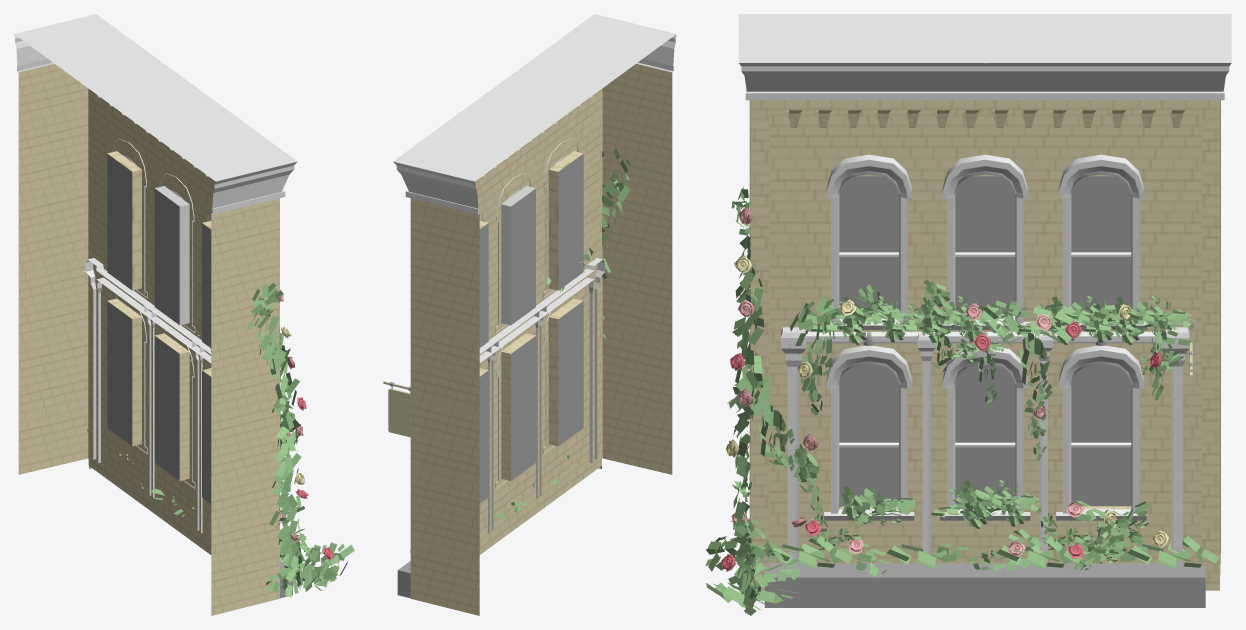
File: Back_House_B.fbx
3 views of the same model, side by side, from view 1: azimuth 30°, elevation 25°; view 2: azimuth 150°, elevation 25°; view 3: azimuth 270°, elevation 25° (orthographic). The views are drawn at different scales.
Parts seen in each view (by area): view 1: polySurface13, polySurface12, polySurface91, pCube87, pCube89, pCube88, pCube86, polySurface192; view 2: polySurface12, polySurface13, pCube86, pCube84, polySurface91, pCube89, pCube88, pCube87, dodai_B; view 3: polySurface13, polySurface12, dodai_B, polySurface91, polySurface16, polySurface18, polySurface11, polySurface14, polySurface17, polySurface15, pCube86, pCube87 (+15 smaller).
Part boxes in pixels (x1=…): polySurface13: x1=14, y1=14, x2=196, y2=529; polySurface12: x1=115, y1=88, x2=297, y2=615; polySurface91: x1=247, y1=307, x2=354, y2=589; pCube87: x1=85, y1=258, x2=176, y2=463; pCube89: x1=144, y1=306, x2=156, y2=498; pCube88: x1=192, y1=341, x2=204, y2=533; pCube86: x1=169, y1=322, x2=211, y2=363; polySurface192: x1=251, y1=283, x2=282, y2=314; polySurface12: x1=494, y1=14, x2=676, y2=529; polySurface13: x1=393, y1=88, x2=575, y2=615; pCube86: x1=514, y1=258, x2=604, y2=463; pCube84: x1=388, y1=388, x2=410, y2=437; polySurface91: x1=602, y1=169, x2=630, y2=357; pCube89: x1=486, y1=341, x2=498, y2=533; pCube88: x1=534, y1=306, x2=546, y2=498; pCube87: x1=479, y1=322, x2=521, y2=362; dodai_B: x1=397, y1=466, x2=601, y2=598; polySurface13: x1=985, y1=14, x2=1231, y2=590; polySurface12: x1=738, y1=14, x2=985, y2=590; dodai_B: x1=764, y1=563, x2=1205, y2=607; polySurface91: x1=727, y1=211, x2=766, y2=615; polySurface16: x1=824, y1=345, x2=914, y2=520; polySurface18: x1=1056, y1=345, x2=1146, y2=520; polySurface11: x1=826, y1=154, x2=911, y2=329; polySurface14: x1=942, y1=154, x2=1030, y2=329; polySurface17: x1=940, y1=347, x2=1030, y2=520; polySurface15: x1=1058, y1=154, x2=1146, y2=329; pCube86: x1=781, y1=327, x2=984, y2=565; pCube87: x1=986, y1=327, x2=1189, y2=565.
Size of the model in its own units: 199 by 581 by 512.
